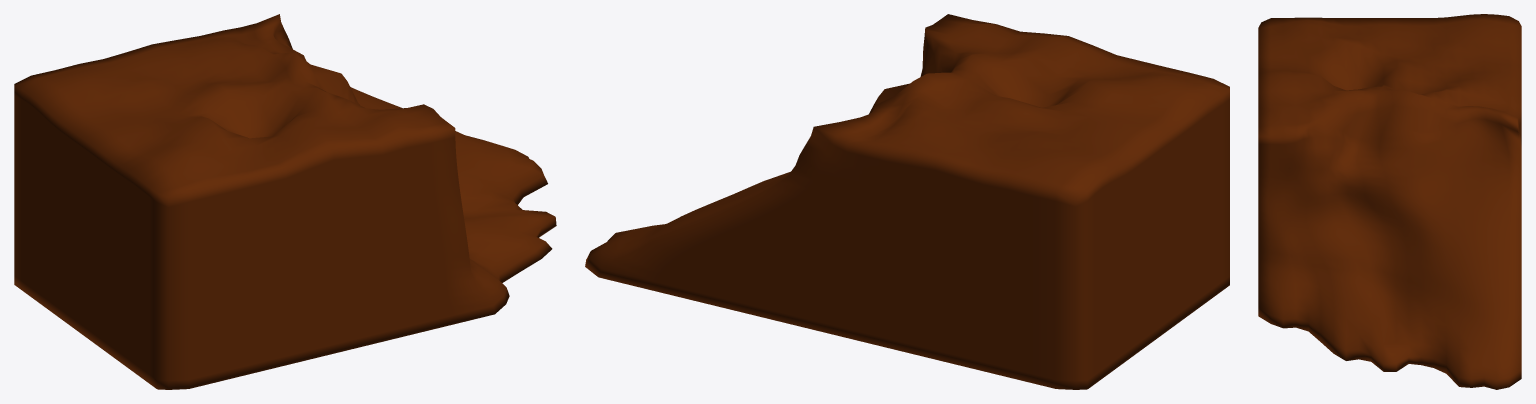
The model's file is chocolate_casi_lleno.fbx.
The picture shows the model from 3 angles, left to right: view 1: azimuth 30°, elevation 25°; view 2: azimuth 150°, elevation 25°; view 3: azimuth 270°, elevation 25°; orthographic projection. The views are drawn at different scales.
Parts seen in each view (by area): view 1: Chocolate_Casi_Lleno; view 2: Chocolate_Casi_Lleno; view 3: Chocolate_Casi_Lleno.
Part boxes in pixels (x1,y1,x2,y2): Chocolate_Casi_Lleno: [14, 14, 556, 389]; Chocolate_Casi_Lleno: [585, 14, 1229, 389]; Chocolate_Casi_Lleno: [1258, 14, 1521, 389].
Size of the model in its own units: 353 by 144 by 189.
